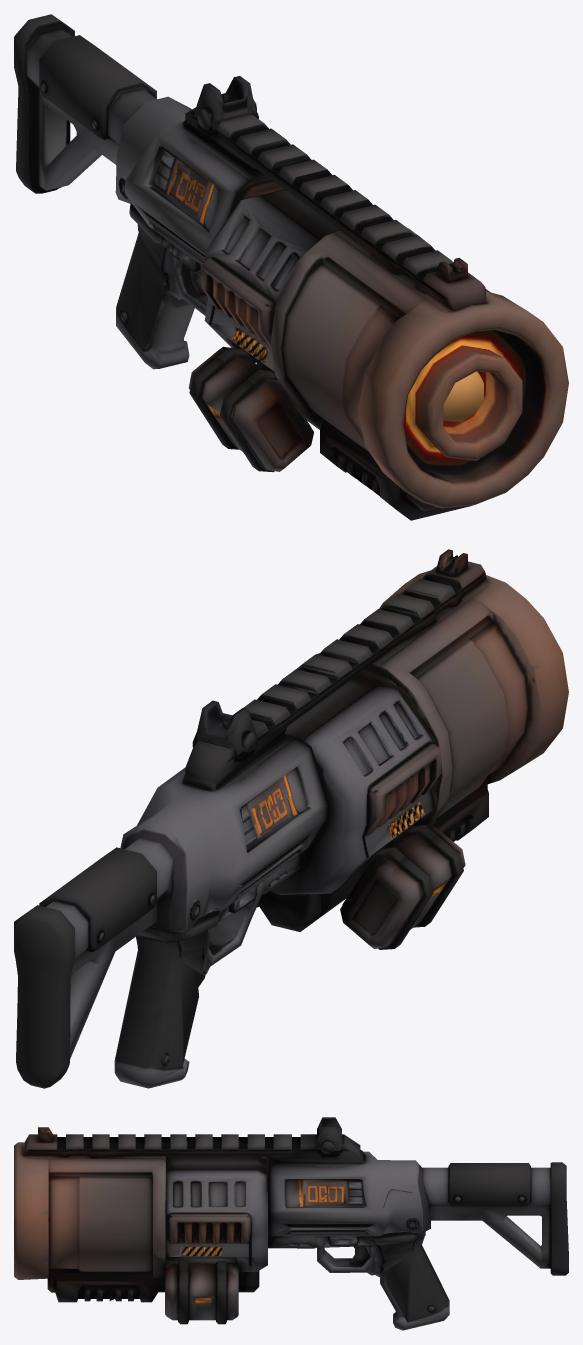
The model's file is 019e0d18-4f36-7f54-8613-aaf2ad51c58b.glb.
3 renders of one model, top to bottom at view 1: azimuth 30°, elevation 25°; view 2: azimuth 150°, elevation 25°; view 3: azimuth 270°, elevation 25°, orthographic. The views are drawn at different scales.
Visible parts, largest first — view 1: tripo_node_390e55b5-3ae4-4170-8a2b-a902134f9bd3; view 2: tripo_node_390e55b5-3ae4-4170-8a2b-a902134f9bd3; view 3: tripo_node_390e55b5-3ae4-4170-8a2b-a902134f9bd3.
Boxes of the visible parts, bbox=[...] form: tripo_node_390e55b5-3ae4-4170-8a2b-a902134f9bd3: bbox=[14, 14, 568, 520]; tripo_node_390e55b5-3ae4-4170-8a2b-a902134f9bd3: bbox=[14, 549, 568, 1088]; tripo_node_390e55b5-3ae4-4170-8a2b-a902134f9bd3: bbox=[14, 1117, 568, 1330].
Bounding box in the file's own units: 0.3105 × 0.4043 × 0.998.
1 material, 1 textured.
